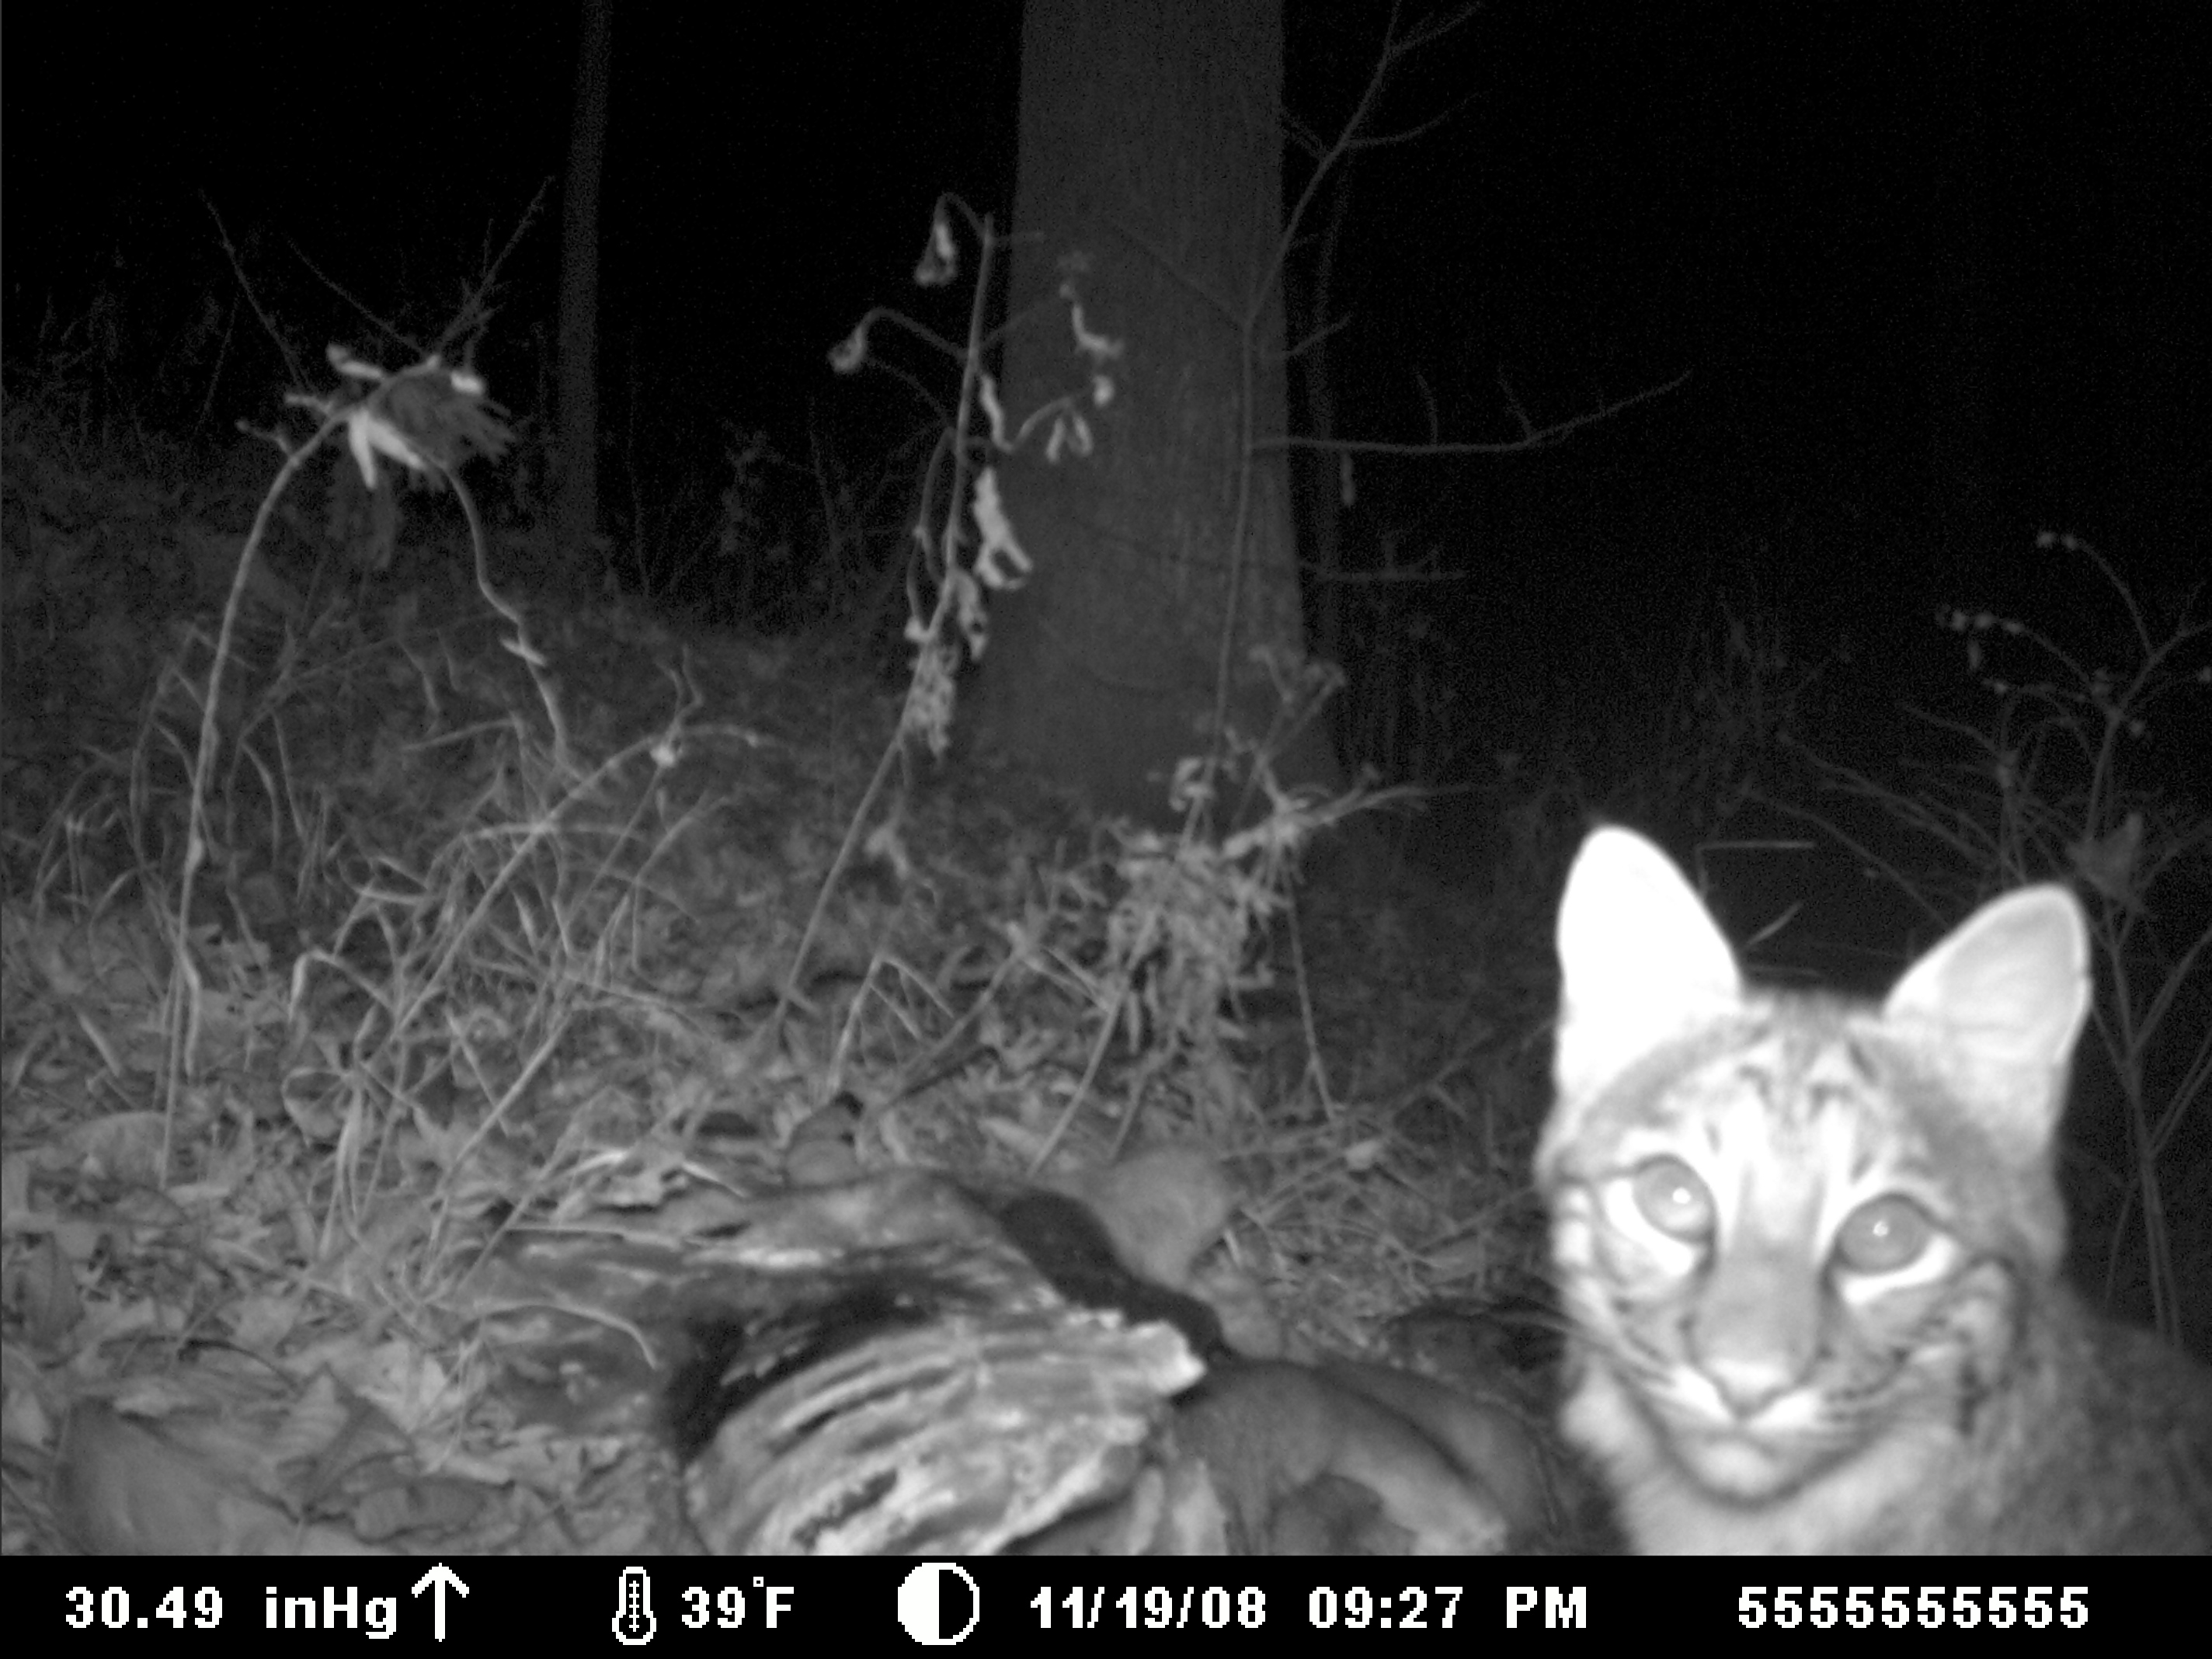bobcat: (1484, 751, 2212, 1547)
